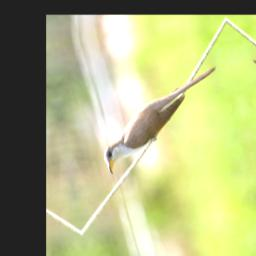Cuckoo: (90, 64, 236, 177)
